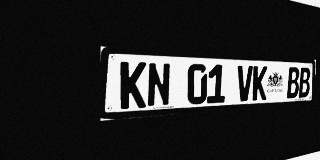0: (187, 64, 207, 105)
1: (207, 64, 226, 104)
B: (287, 67, 299, 98), (299, 67, 310, 98)
K: (120, 61, 146, 109), (252, 66, 267, 101)
N: (147, 62, 171, 107)
V: (236, 65, 253, 102)
